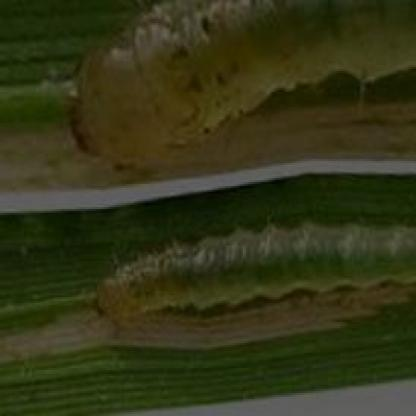leaf-folder: (79, 3, 416, 182), (84, 216, 416, 354)
